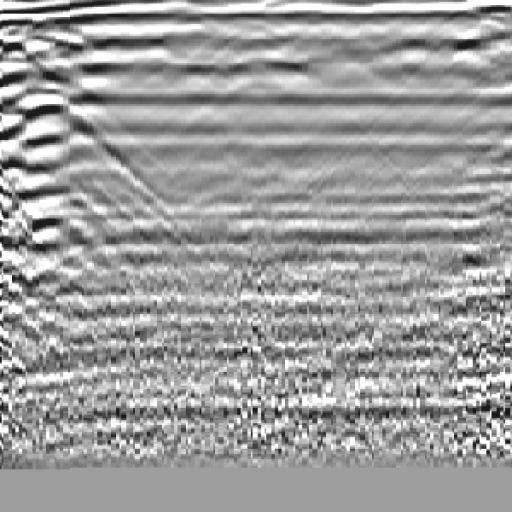metalic: (1, 51, 175, 298)
